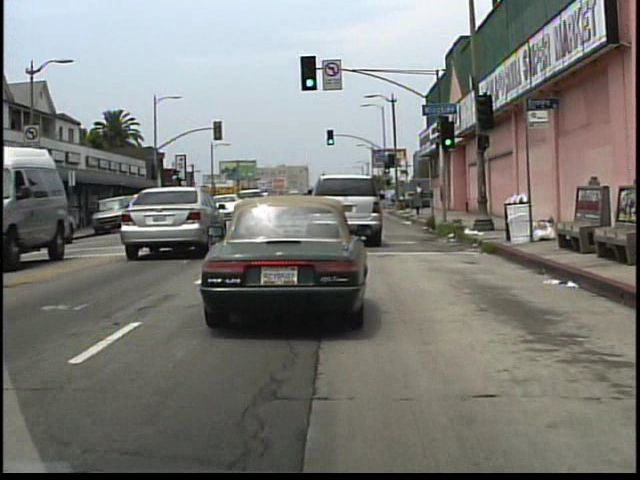person: (416, 181, 428, 209)
